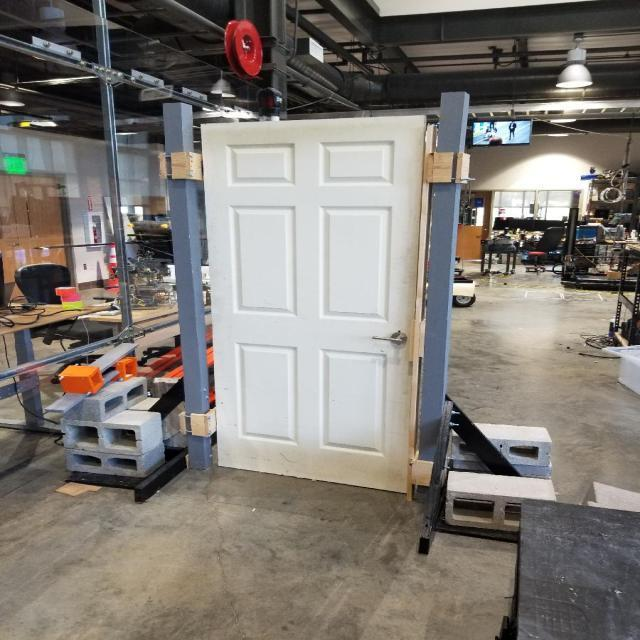door: (196, 111, 430, 508), (368, 329, 407, 346)
